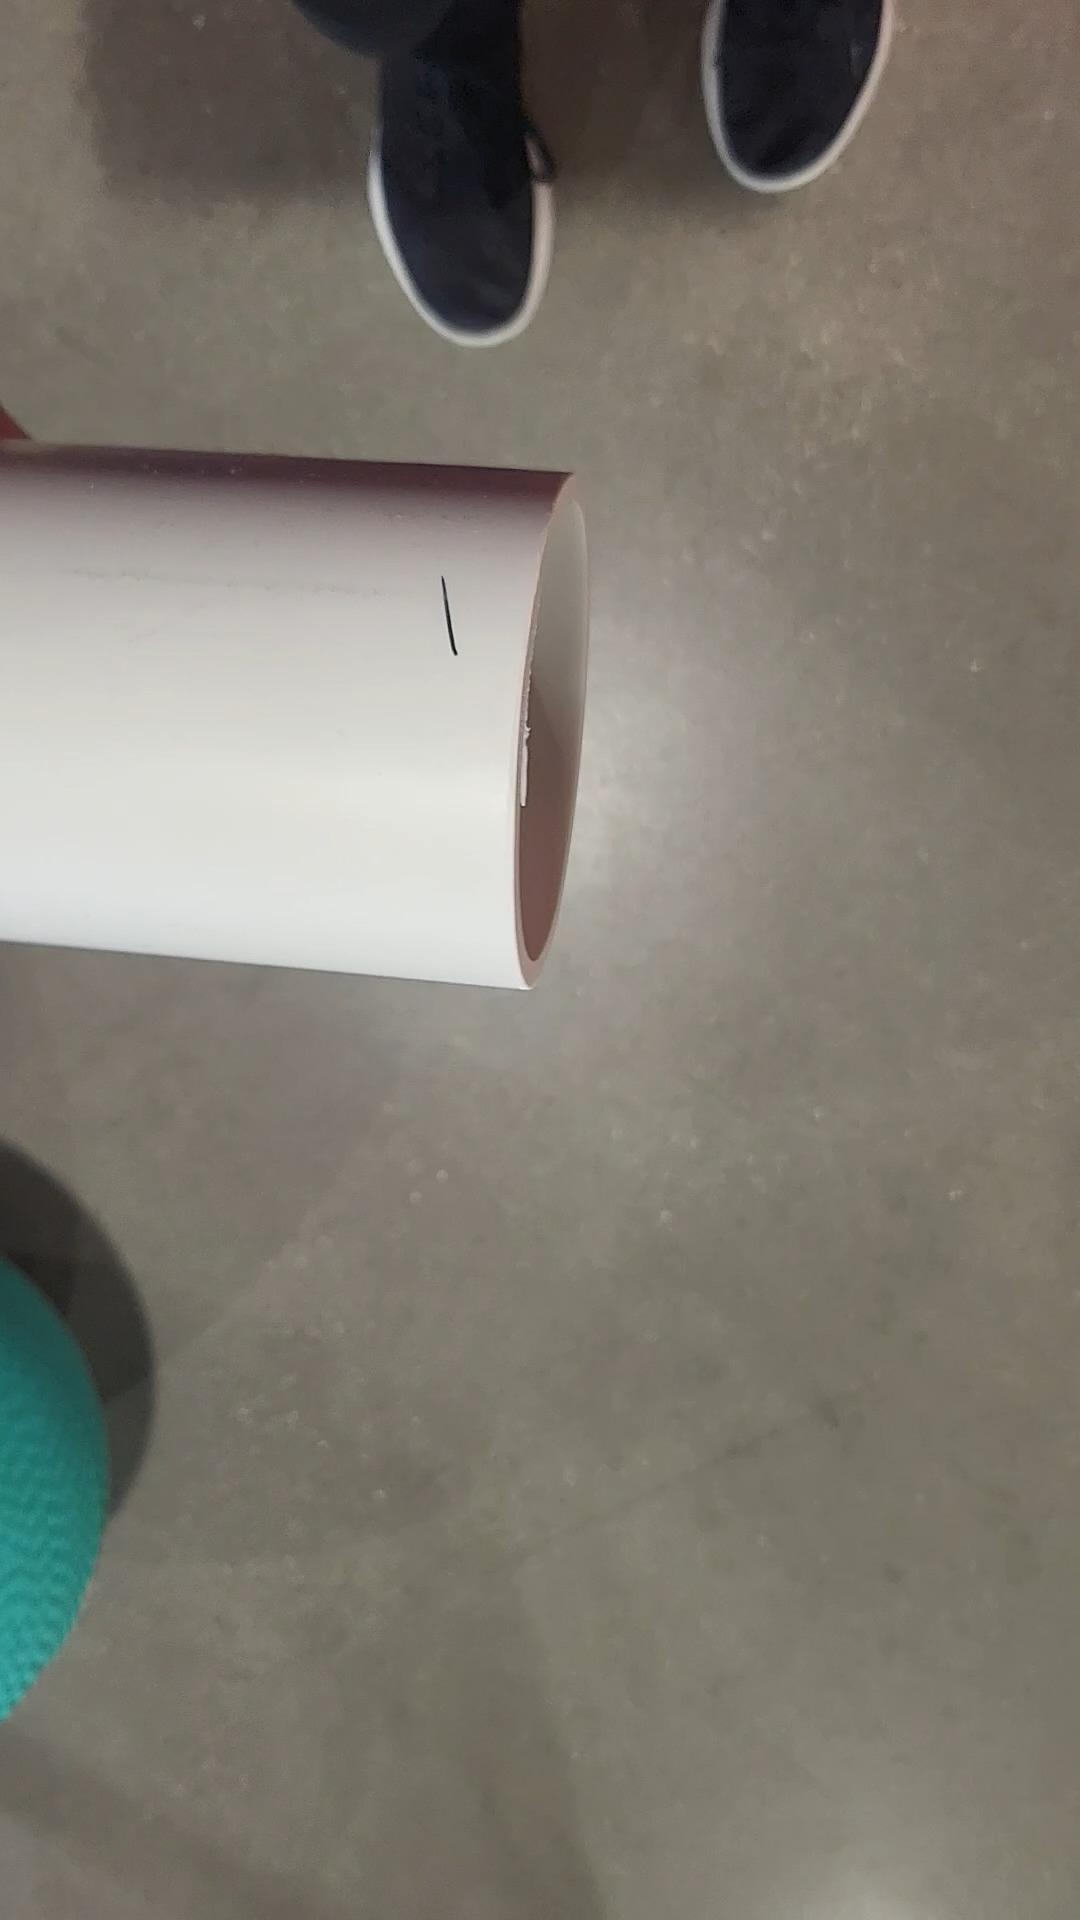algae: (0, 1228, 116, 1743)
coral: (0, 414, 607, 1017)
